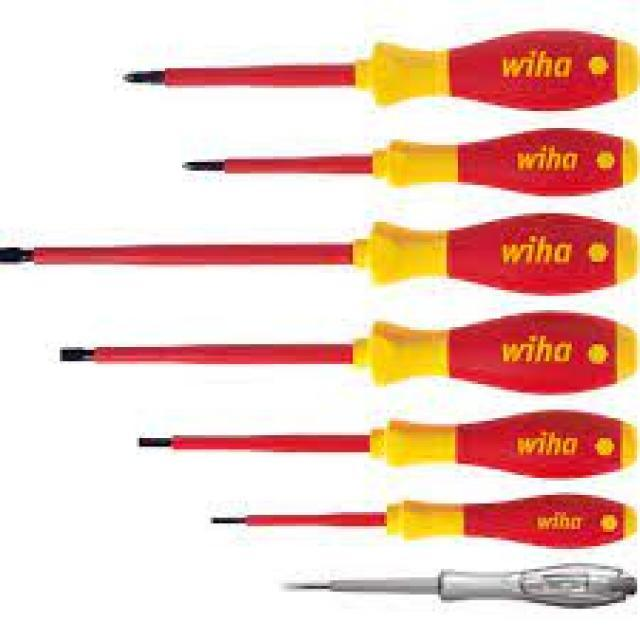screwdriver: (0, 209, 640, 309), (40, 312, 640, 399), (119, 21, 640, 116), (111, 400, 640, 488), (177, 124, 638, 204), (199, 488, 640, 559), (259, 558, 640, 614)
